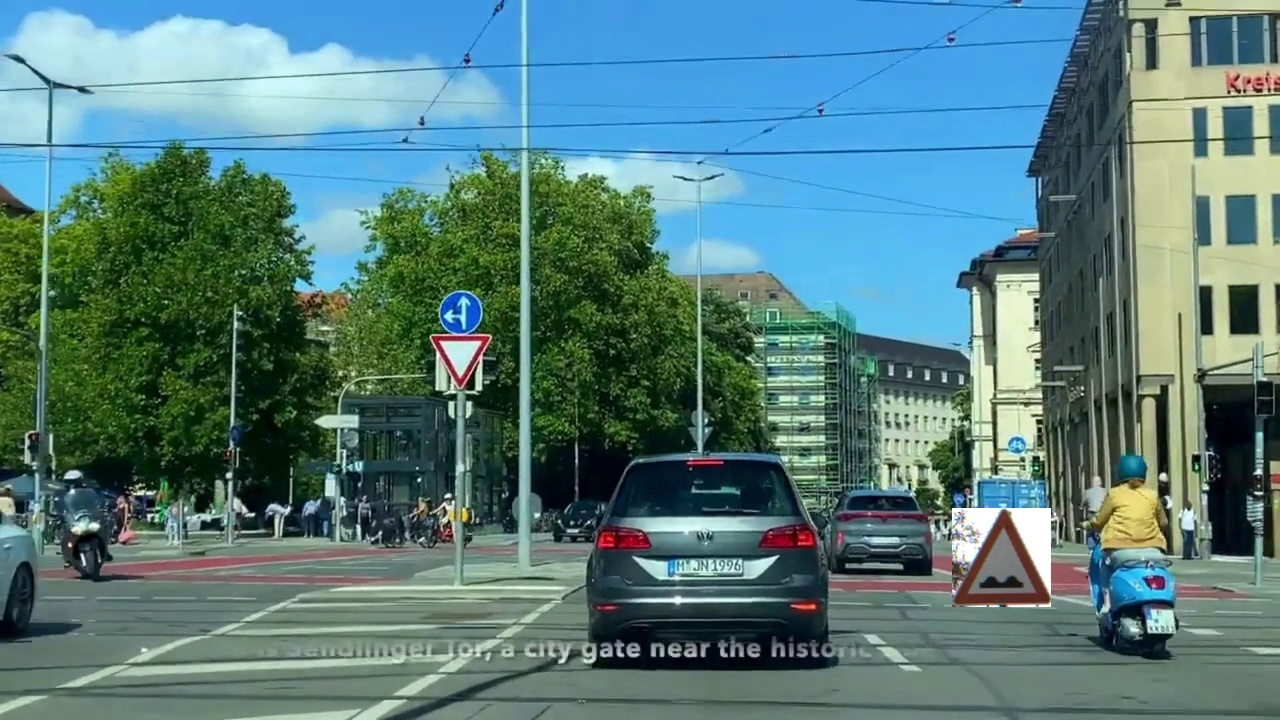Bumpy road: (952, 508, 1051, 607)
